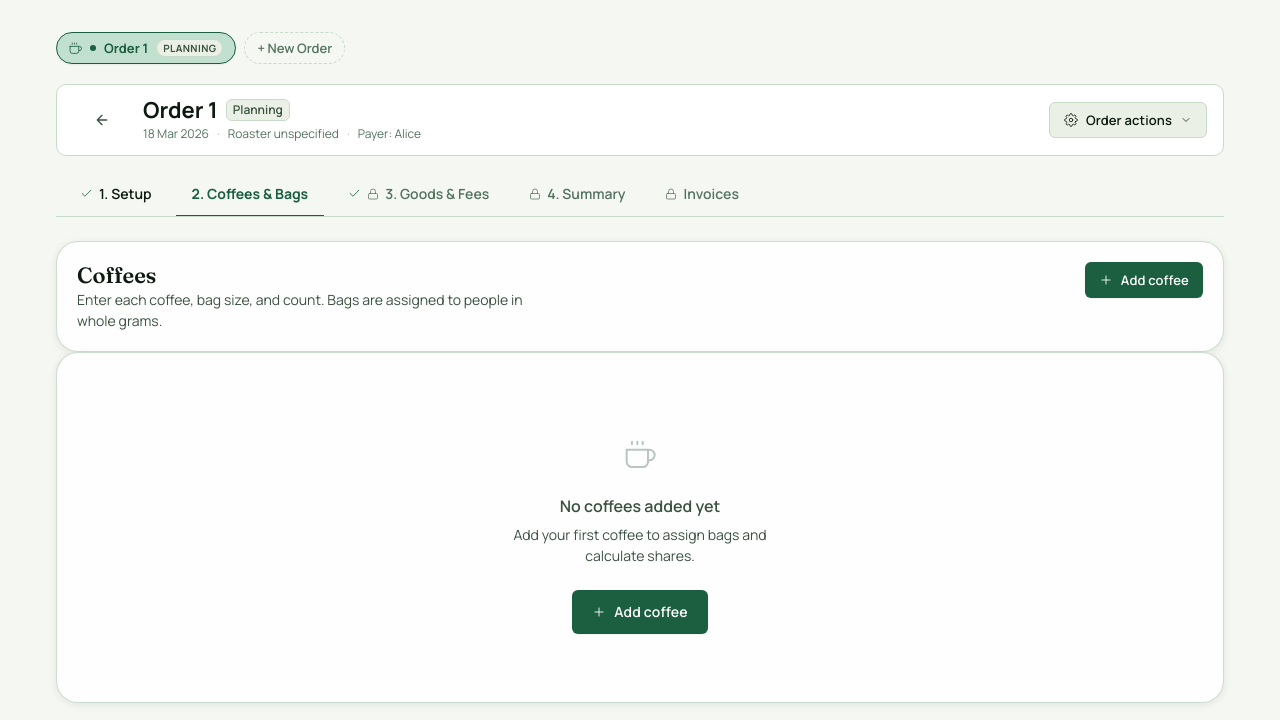
Test: OrderPage component tests › Delete Order › shows the error when deleting fails
Click the button with class "order-actions-trigger".
click(1128, 120)  # box [1049, 102, 1207, 138]
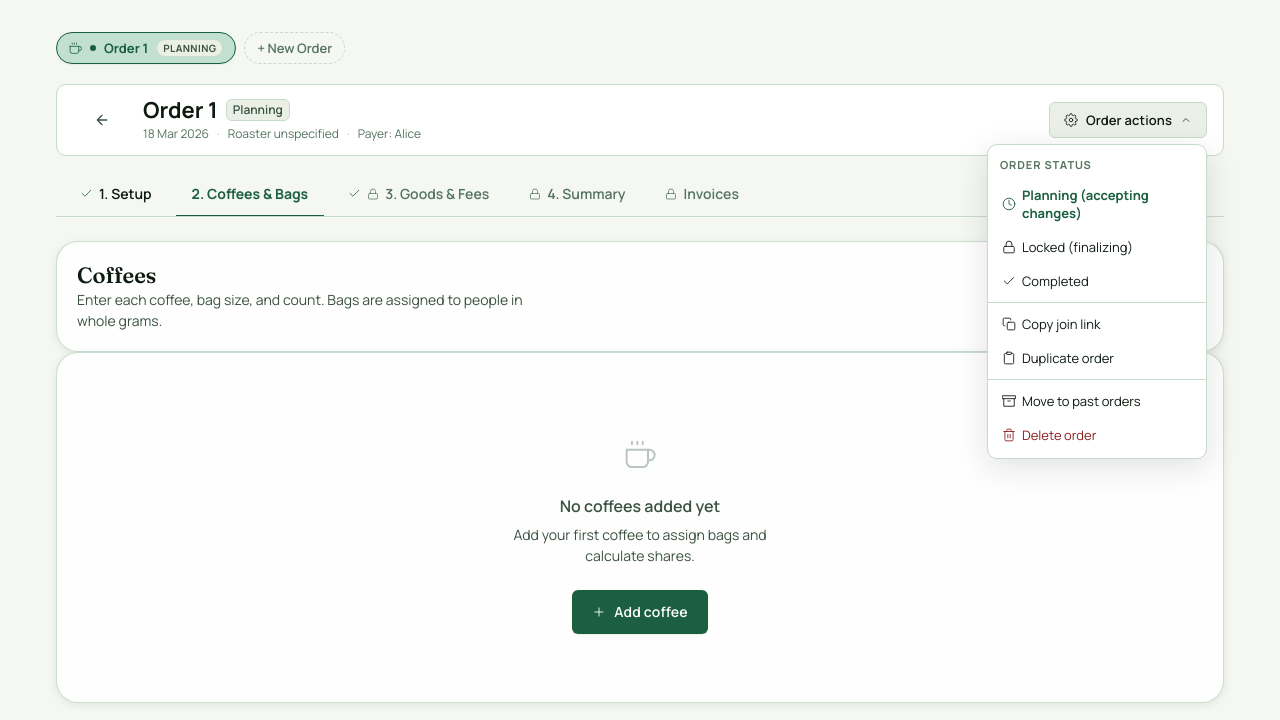
Expected: the button with class "dropdown-item" showing "Delete order" is shown
Click the button with class "dropdown-item" showing "Delete order".
click(1097, 435)  # box [988, 418, 1206, 452]
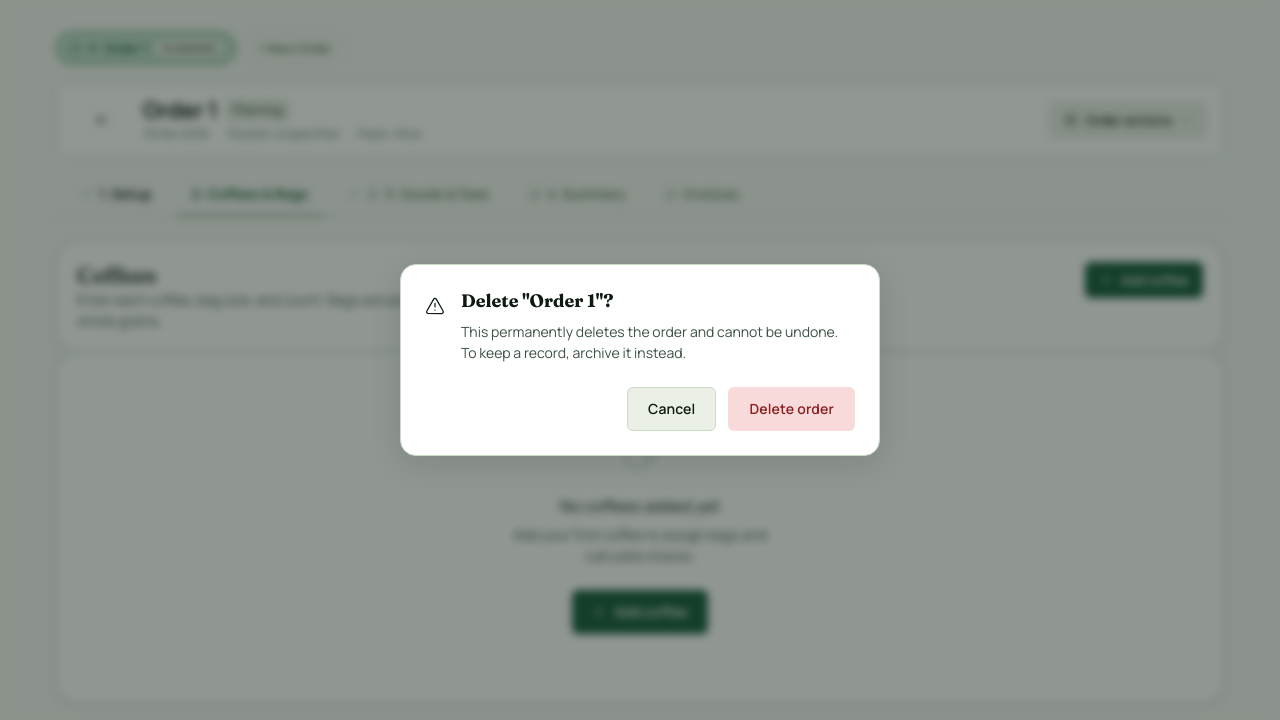
Expected: the button "Delete order" is shown
Click the button "Delete order".
click(792, 409)  # box [728, 387, 855, 431]
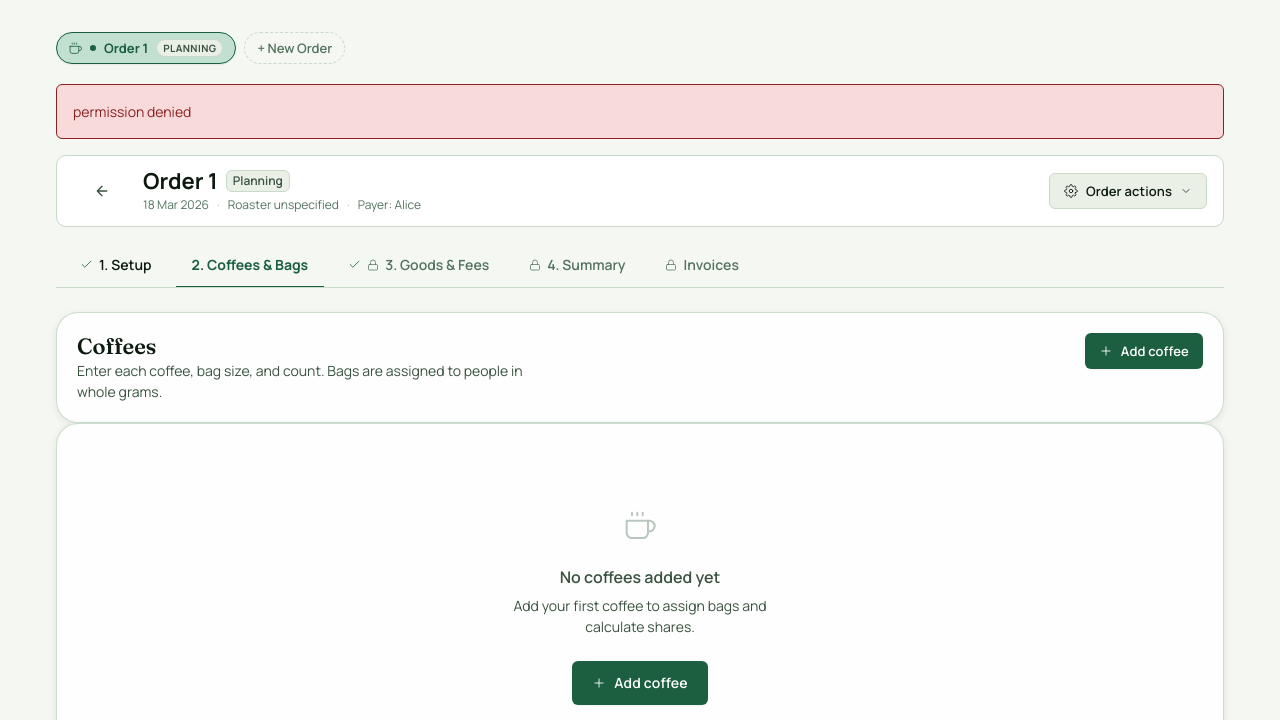
Expected: the heading with class "order-header-title" reads "Order 1", [143, 166, 218, 196]
Expected: the message with class "alert-error" reads "permission denied", [73, 102, 191, 121]
